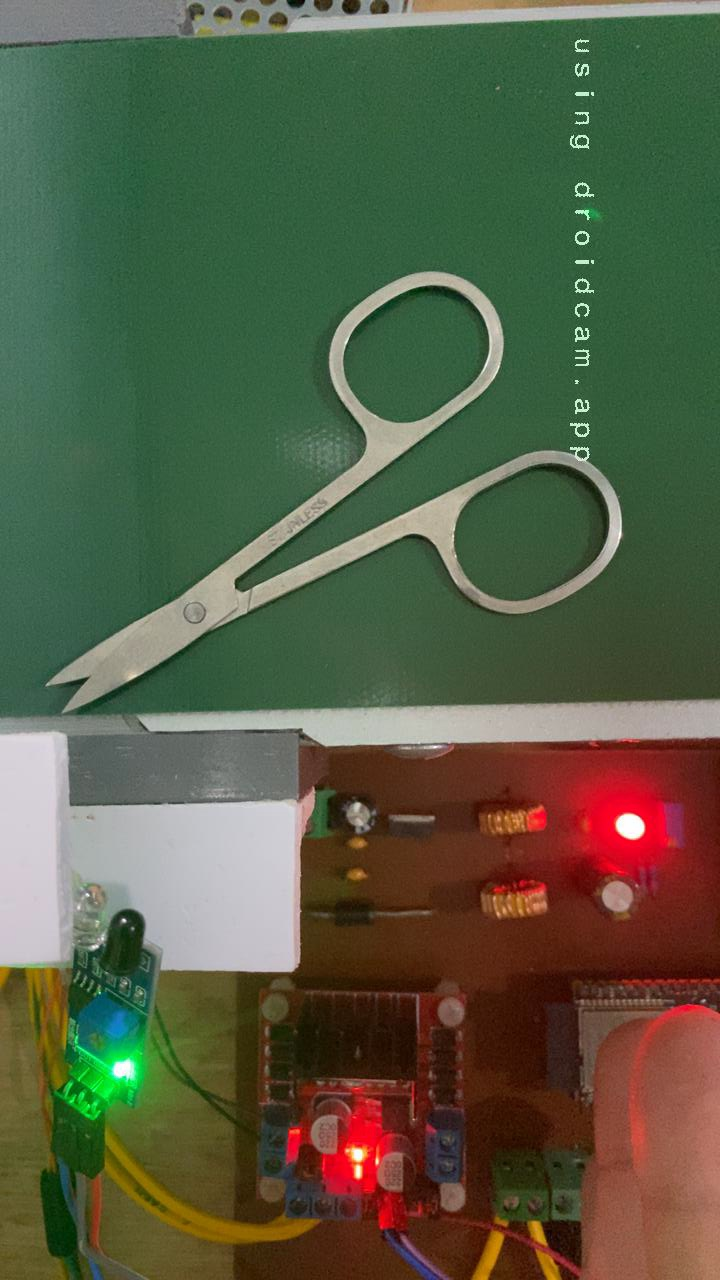scissor: (43, 265, 632, 707)
